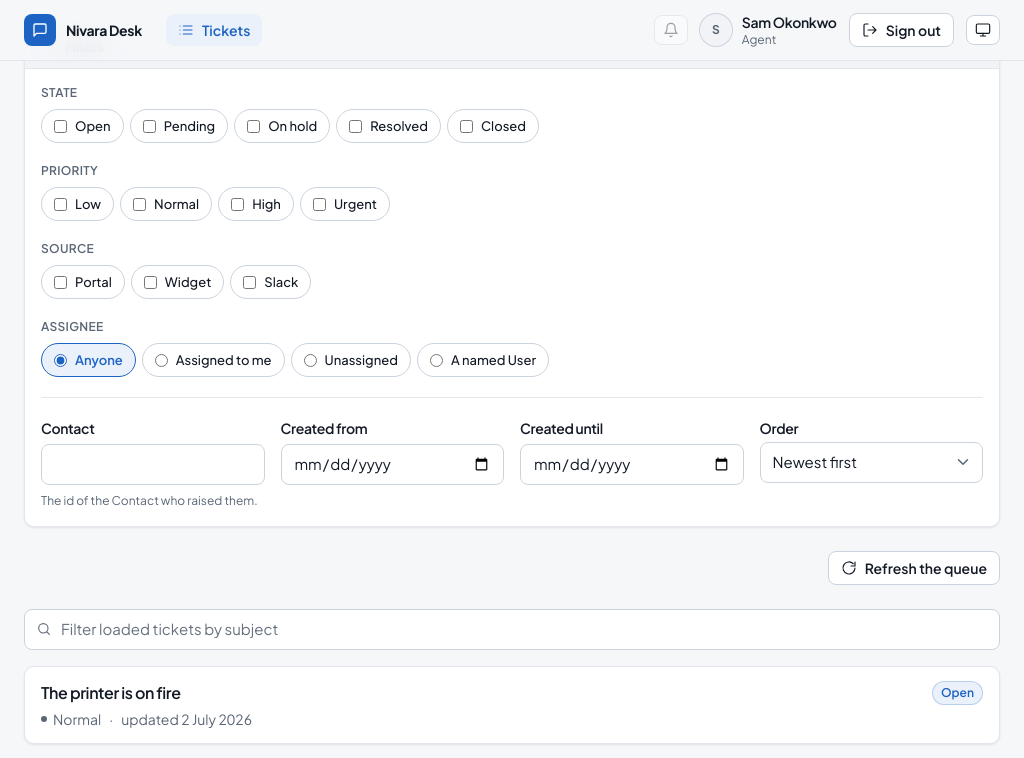
Test: opening a Ticket from the queue › reads the full thread in order
(page scrolled)
Click the button "The printer is on fire Normal · updated 2 July 2026 Open": click(111, 692) [25,666,999,742]
(page scrolled)
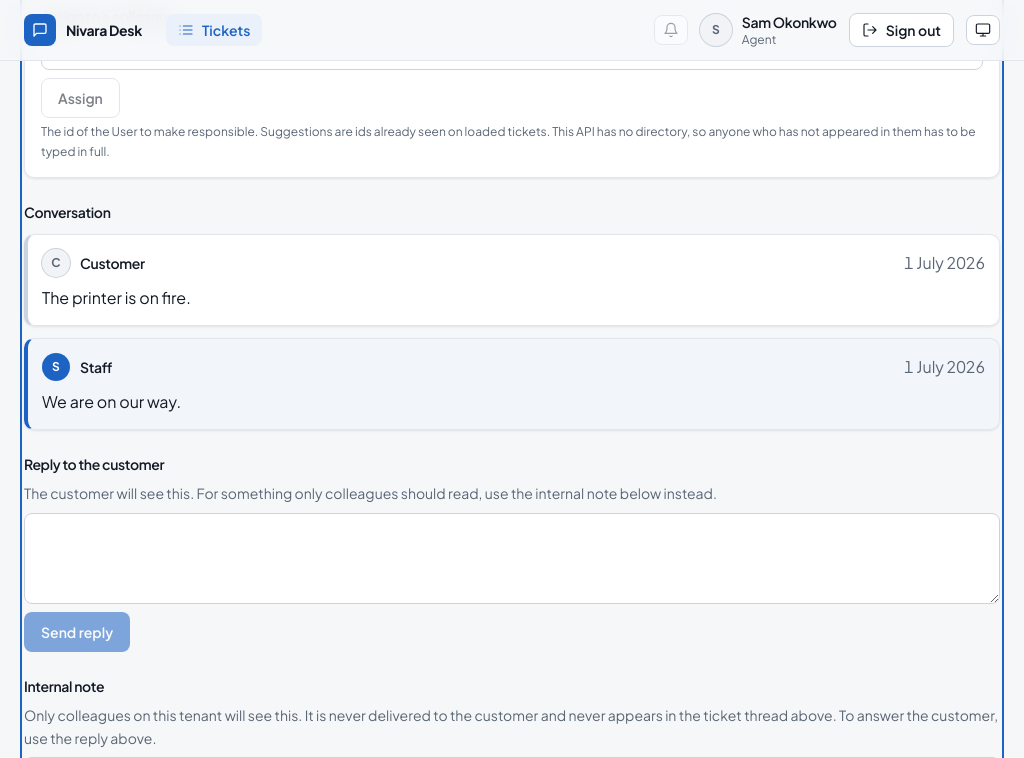
Check: the list item "C Customer 1 July 2026 The printer is on fire." is shown, box [24,234,1000,326]
Check: the list item "S Staff 1 July 2026 We are on our way." is shown, box [24,338,1000,430]
